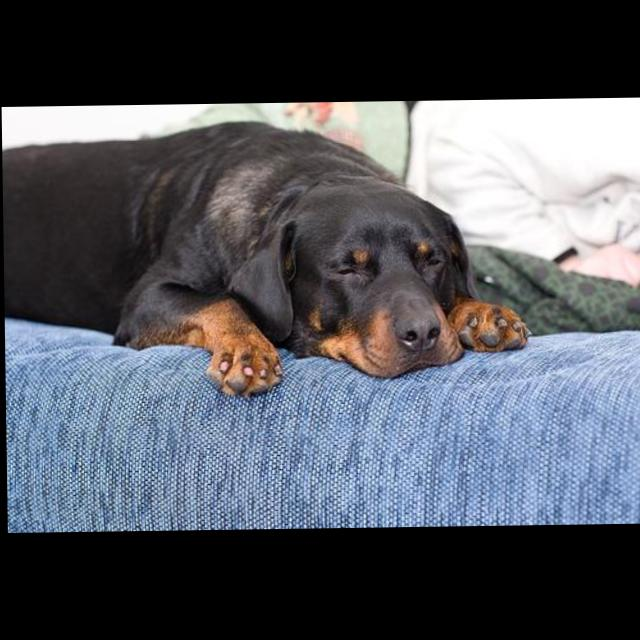rottweiler: (5, 117, 535, 402)
